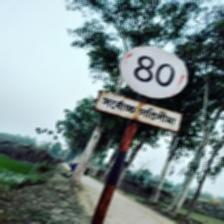Speed-limit: (96, 45, 191, 134)
